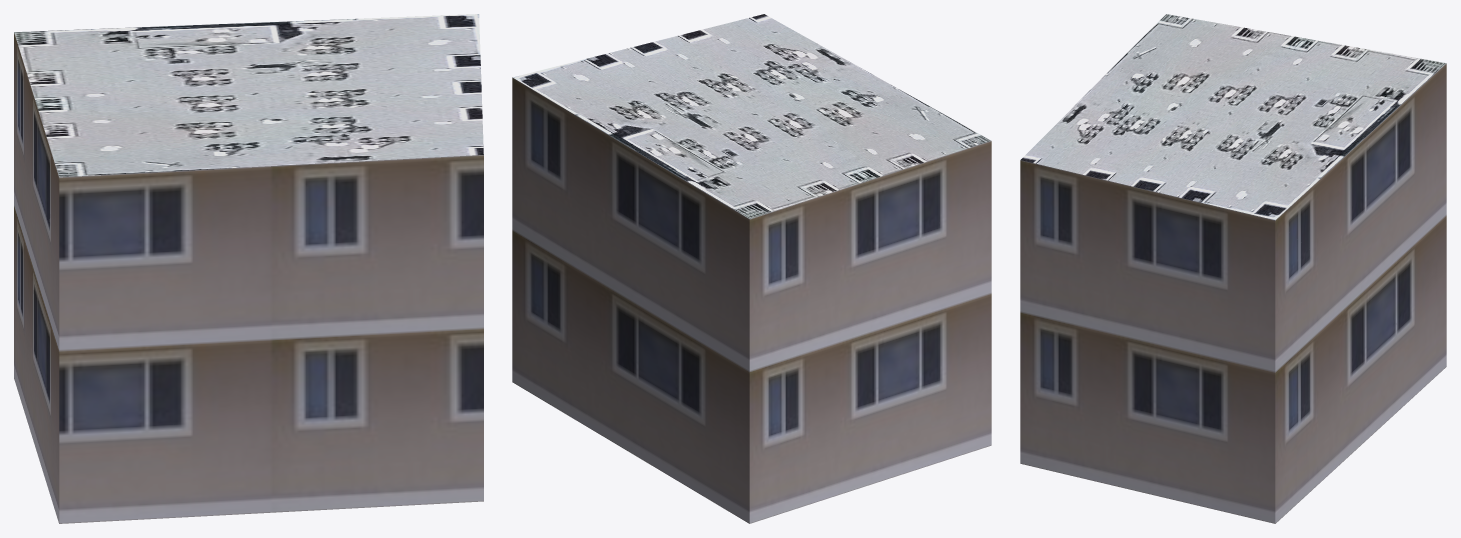
Rendered from ResTex__5289.fbx.
3 views of the same model, side by side, from view 1: azimuth 30°, elevation 25°; view 2: azimuth 150°, elevation 25°; view 3: azimuth 270°, elevation 25° (orthographic). The views are drawn at different scales.
Parts seen in each view (by area): view 1: CityEngineMaterial_21_m, CityEngineMaterial_8_m; view 2: CityEngineMaterial_21_m, CityEngineMaterial_8_m; view 3: CityEngineMaterial_21_m, CityEngineMaterial_8_m.
Boxes of the visible parts, x1,y1,x2,y2 form: CityEngineMaterial_21_m: [14, 32, 483, 523]; CityEngineMaterial_8_m: [14, 14, 483, 177]; CityEngineMaterial_21_m: [512, 77, 991, 523]; CityEngineMaterial_8_m: [513, 14, 990, 218]; CityEngineMaterial_21_m: [1020, 63, 1446, 523]; CityEngineMaterial_8_m: [1021, 14, 1446, 220].
Size of the model in its own units: 8.74 by 6 by 7.63.
Materials: 2 (2 with a texture image).
